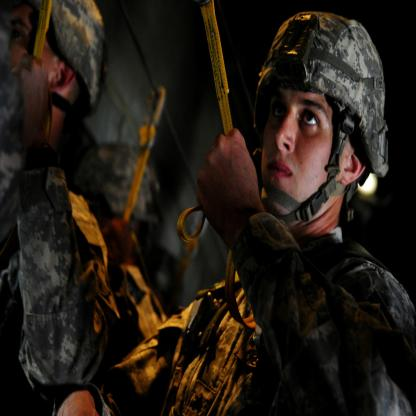Helmet: (252, 5, 390, 236), (32, 0, 110, 109)
